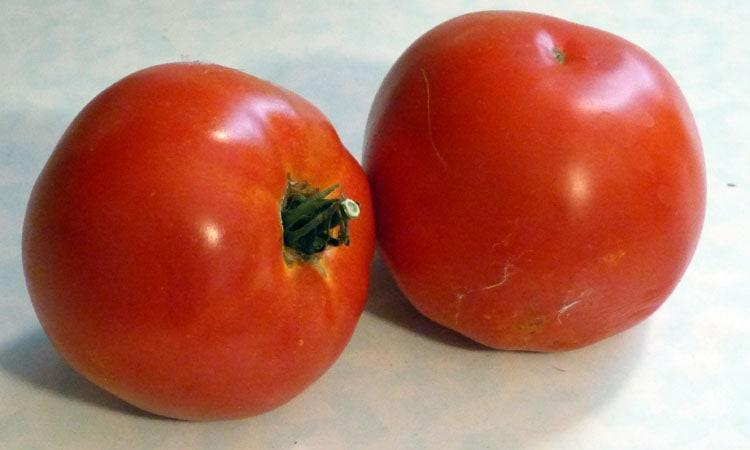healthy-tomato: (21, 63, 380, 424), (361, 11, 709, 356)
